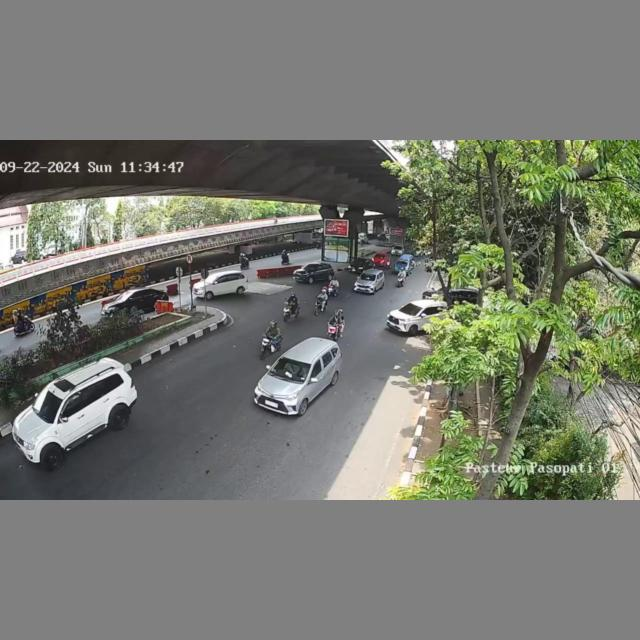windshield: (31, 390, 64, 422), (266, 357, 311, 380), (400, 302, 420, 316), (359, 273, 376, 281)
